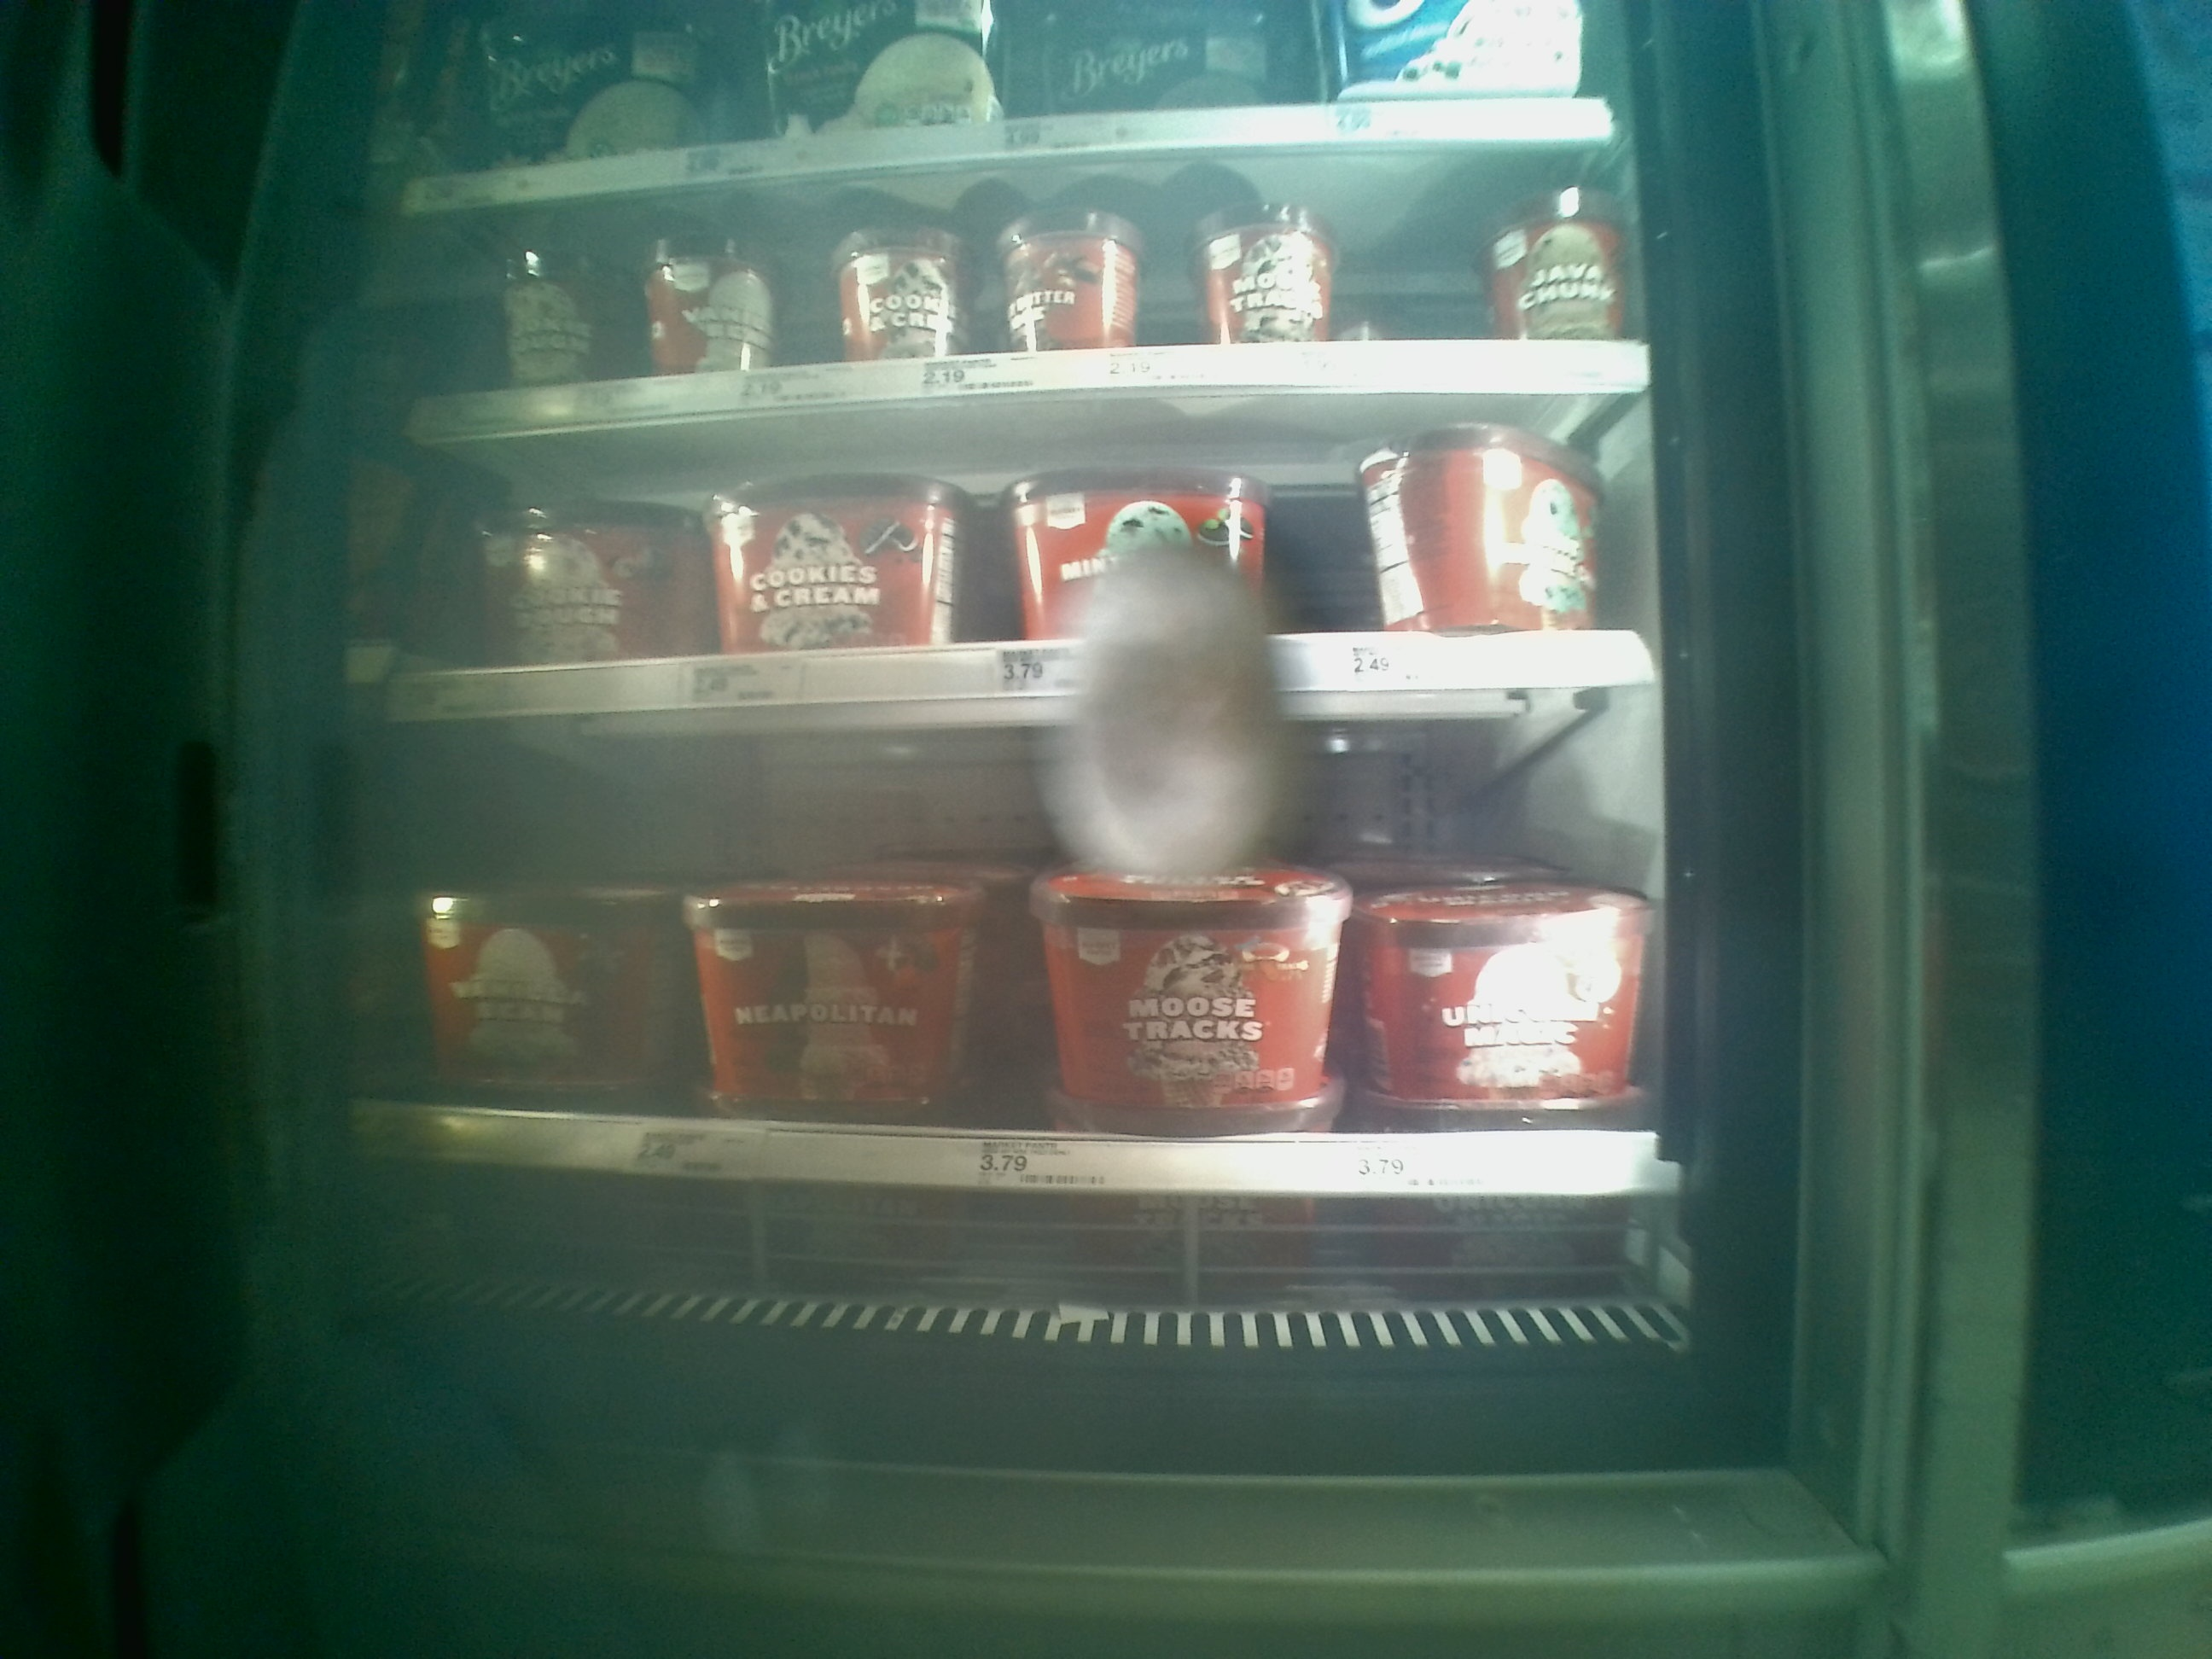ice-cream-shelf: (411, 146, 1658, 408)
